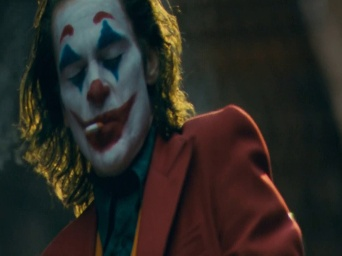smoke: (83, 121, 103, 134)
